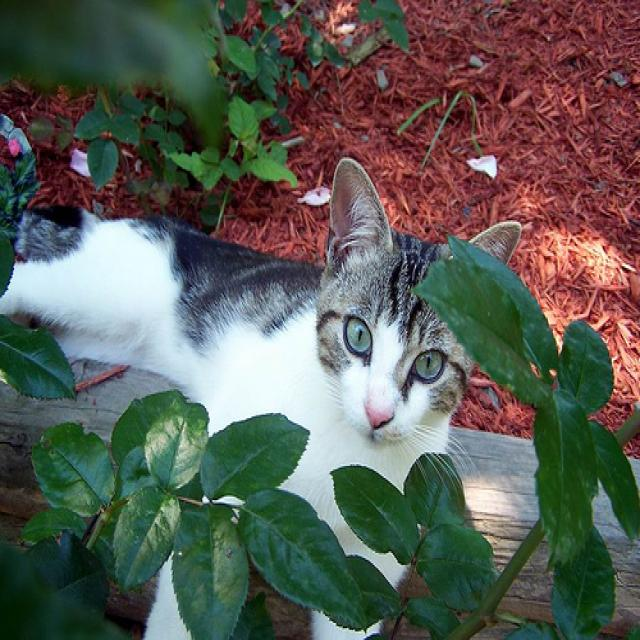left eye: (409, 345, 446, 384)
